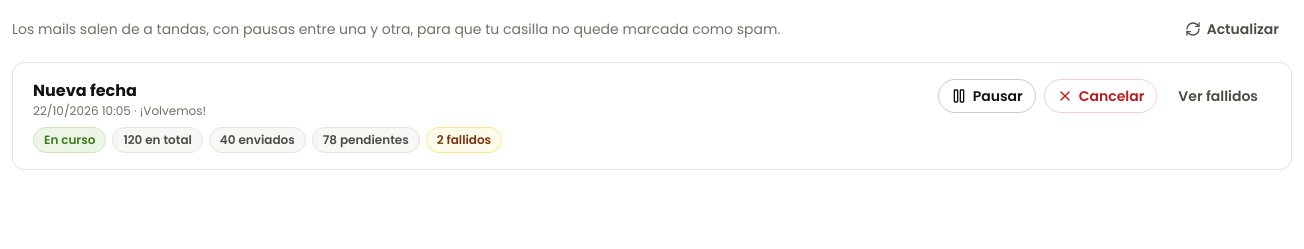
Test case: PanelEnvios › si el servidor no deja cambiar el envío, lo explica
This screenshot has width=1304, height=249.
Click the button "Pausar": (987, 96) x1=938 y1=79 x2=1036 y2=113
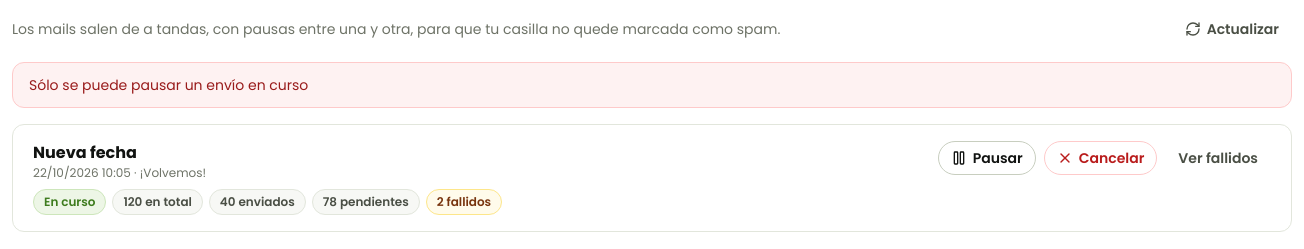
Expected: the text "En curso" is shown, x1=33 y1=189 x2=106 y2=215
Expected: the text "Sólo se puede pausar un envío en curso" is shown, x1=12 y1=62 x2=1292 y2=108
